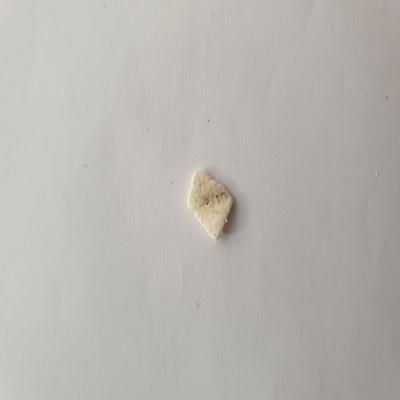plastic: (184, 166, 241, 243)
